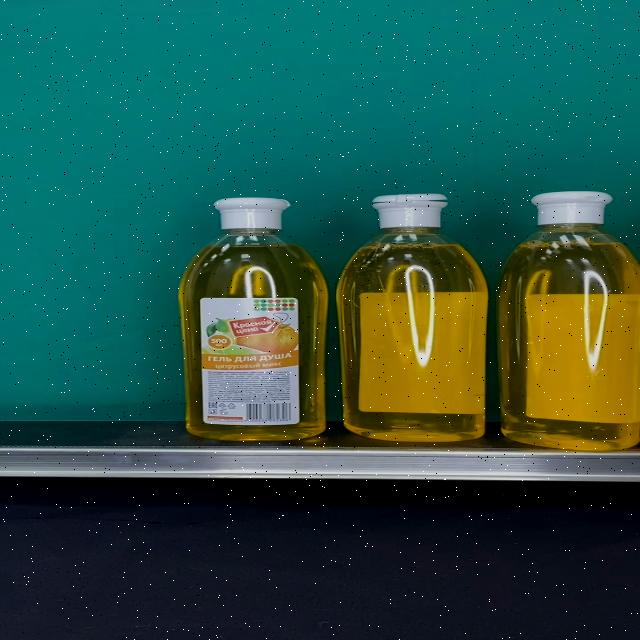Bottle: (336, 193, 487, 442), (497, 190, 640, 450), (179, 197, 328, 440)
Cap: (530, 190, 612, 226), (214, 197, 292, 231), (372, 193, 449, 227)
